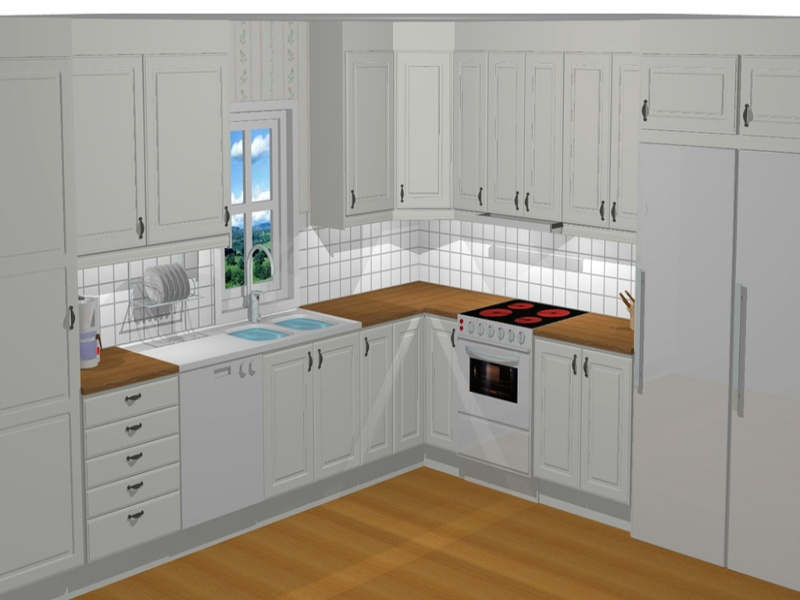oven: (444, 310, 534, 470)
